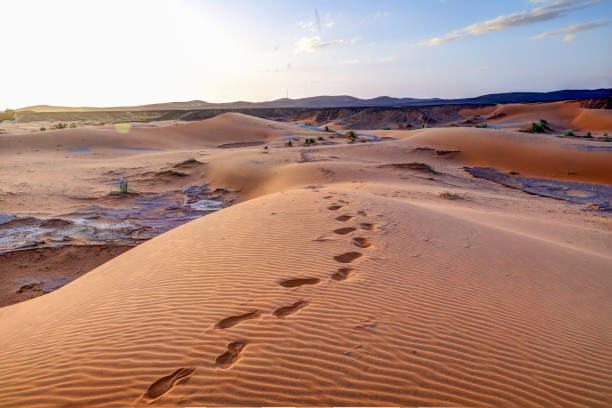human_foot_print: (144, 368, 196, 401), (215, 341, 245, 368), (215, 310, 260, 328), (273, 300, 309, 317), (278, 278, 319, 287), (334, 251, 362, 262), (331, 267, 353, 280), (352, 237, 371, 247), (333, 227, 355, 234), (335, 215, 353, 221), (360, 223, 375, 230), (327, 204, 341, 210)
